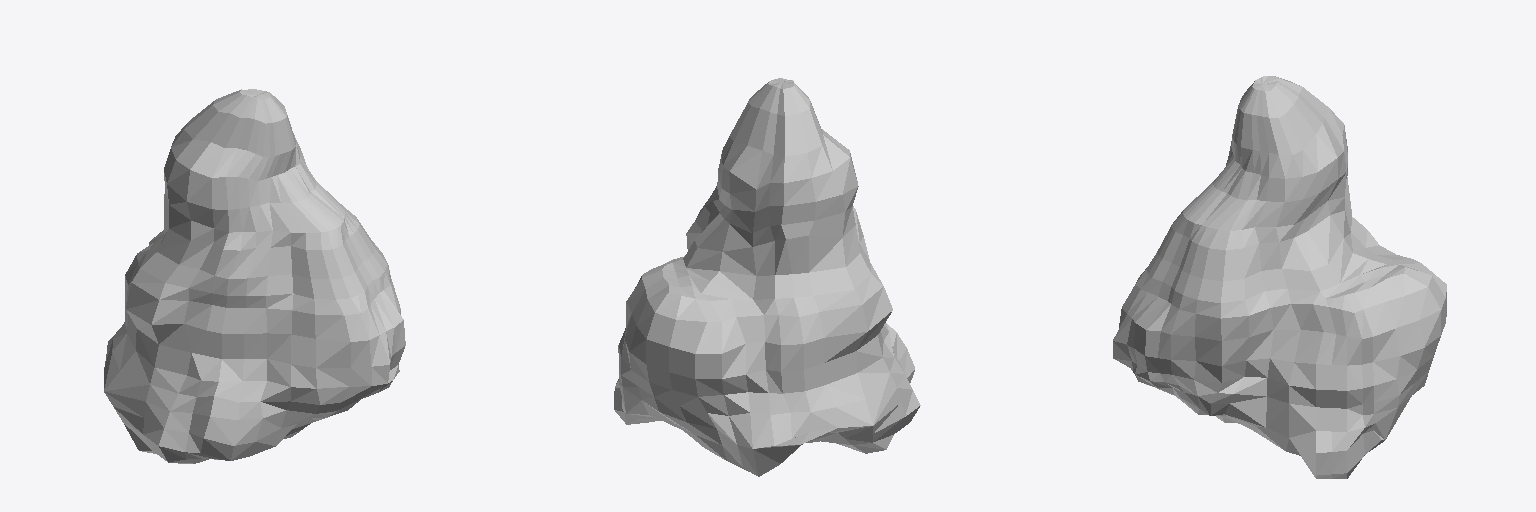
Rendered from cañon3UVs.obj.
3 views of the same model, side by side, from view 1: azimuth 30°, elevation 25°; view 2: azimuth 150°, elevation 25°; view 3: azimuth 270°, elevation 25° (orthographic).
Visible parts, largest first — view 1: Plane001; view 2: Plane001; view 3: Plane001.
Part boxes in pixels (x1,y1,x2,y2): Plane001: (104, 89, 405, 463); Plane001: (614, 78, 920, 476); Plane001: (1113, 76, 1446, 478).
Bounding box in the file's own units: 33.7 × 42.8 × 37.92.